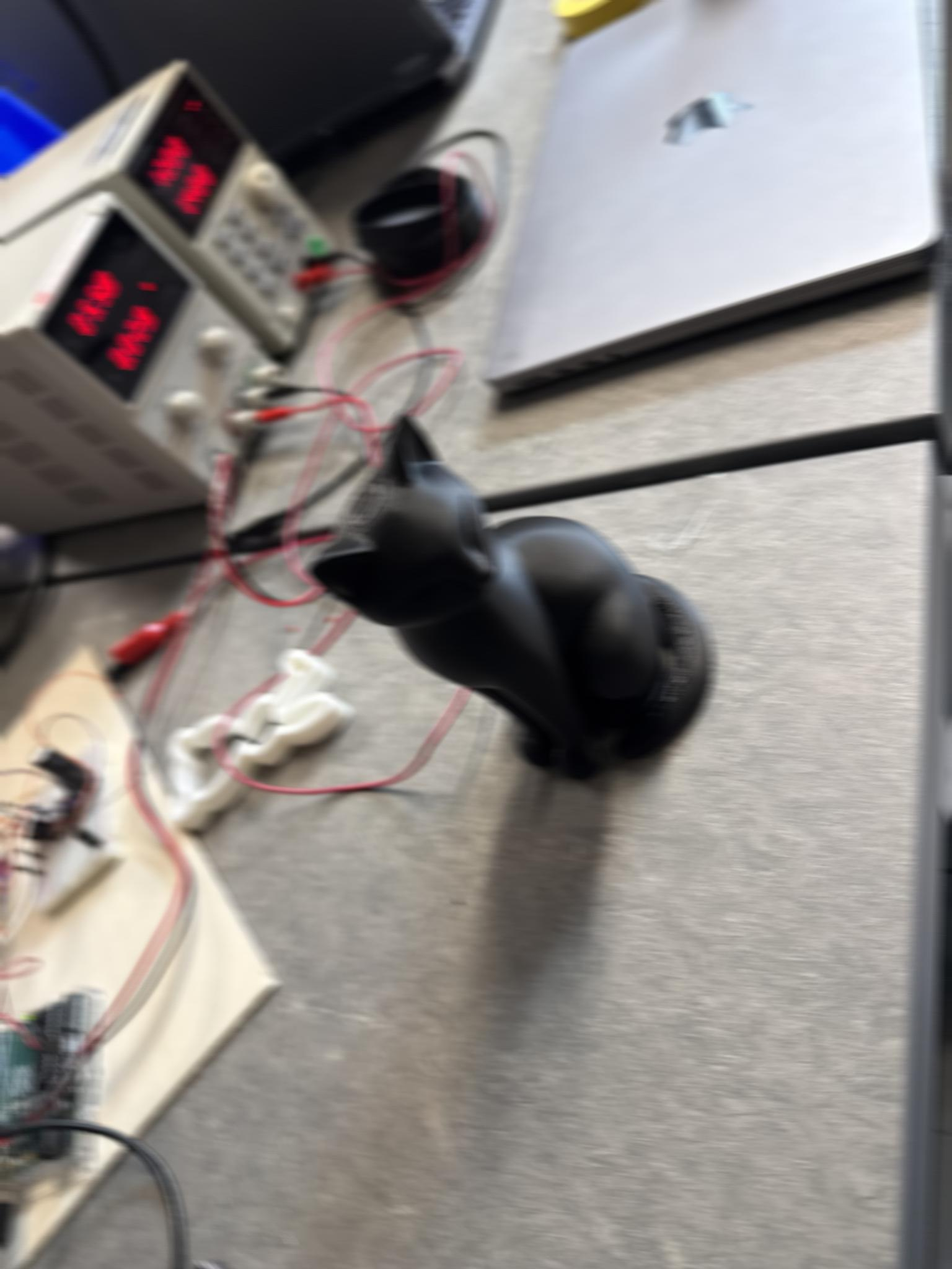cat: (307, 412, 714, 779)
